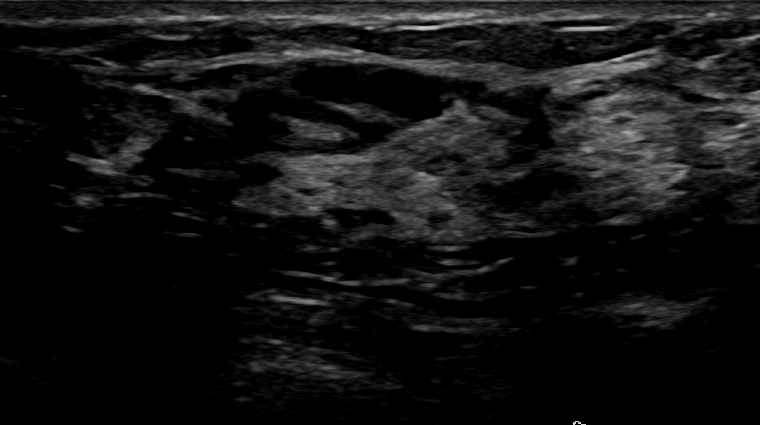Normal: (5, 21, 760, 402)
